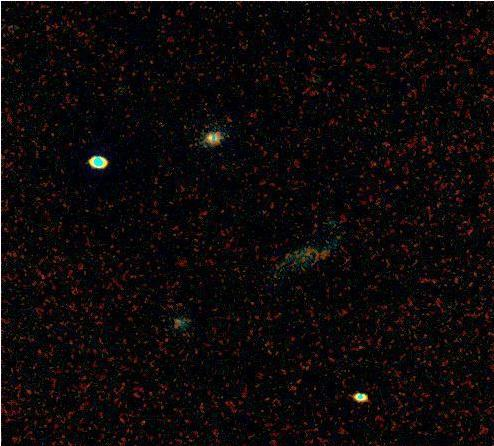star: (282, 221, 312, 251)
